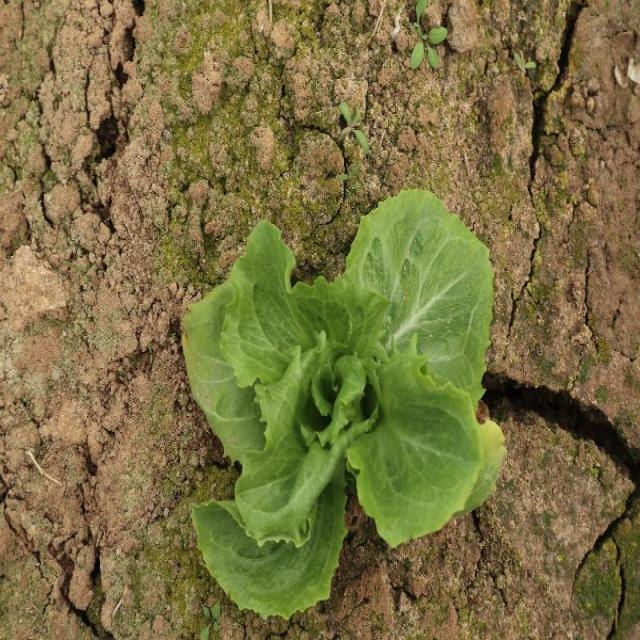crop: (181, 188, 509, 619)
